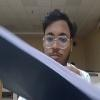notebook: (0, 20, 99, 99)
